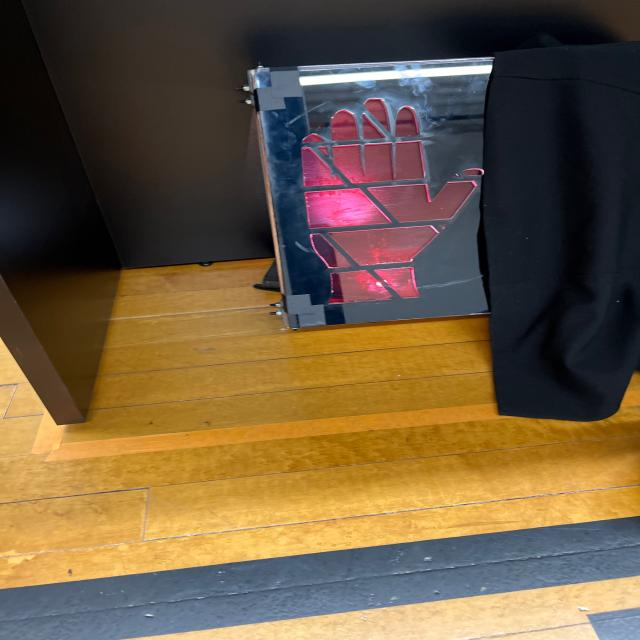stop: (275, 72, 496, 325)
